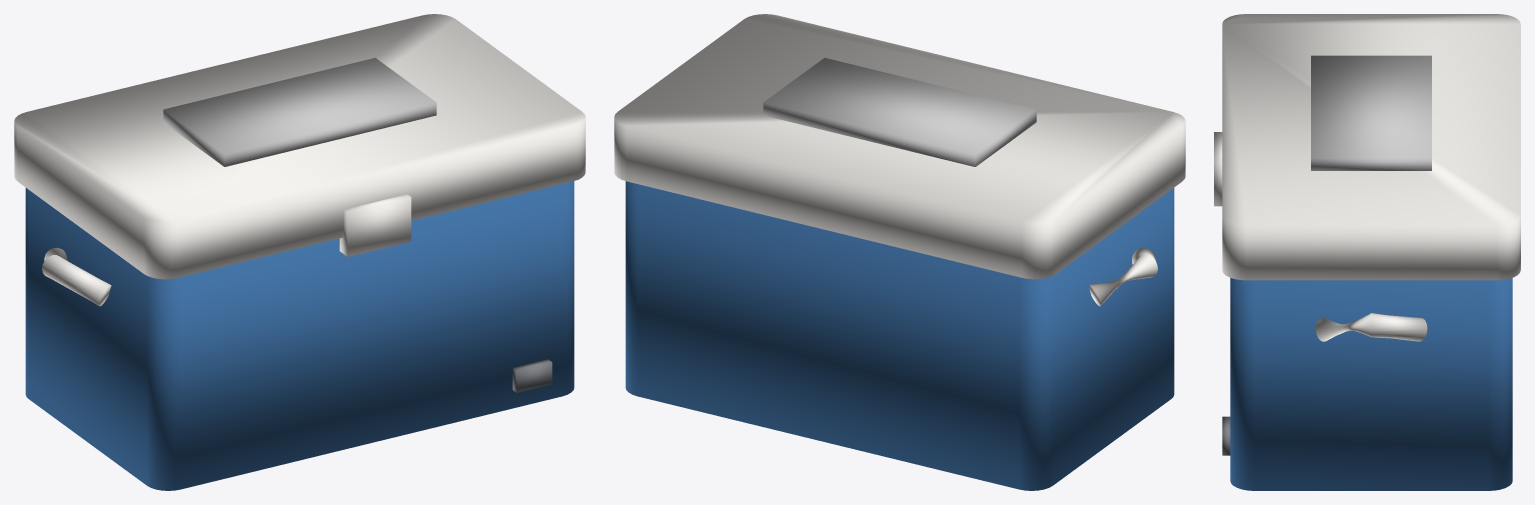
Rendered from ice-chest-cooler.glb.
3 renders of one model, left to right at view 1: azimuth 30°, elevation 25°; view 2: azimuth 150°, elevation 25°; view 3: azimuth 270°, elevation 25°, orthographic.
Visible parts, largest first — view 1: part0, part1, part2, part3, part6; view 2: part0, part1, part2, part3; view 3: part1, part0, part2, part3, part6.
Part boxes in pixels (left/top/right/bottom): part0: left=25, top=181, right=574, bottom=490; part1: left=14, top=14, right=585, bottom=279; part2: left=163, top=57, right=436, bottom=166; part3: left=42, top=194, right=411, bottom=306; part6: left=512, top=359, right=552, bottom=392; part0: left=625, top=181, right=1174, bottom=490; part1: left=614, top=14, right=1185, bottom=279; part2: left=763, top=57, right=1036, bottom=166; part3: left=1088, top=247, right=1157, bottom=306; part1: left=1222, top=14, right=1520, bottom=280; part0: left=1230, top=278, right=1512, bottom=490; part2: left=1311, top=55, right=1431, bottom=170; part3: left=1214, top=132, right=1427, bottom=341; part6: left=1222, top=416, right=1230, bottom=455.
Size of the model in its own units: 1 by 0.5274 by 0.5206.
